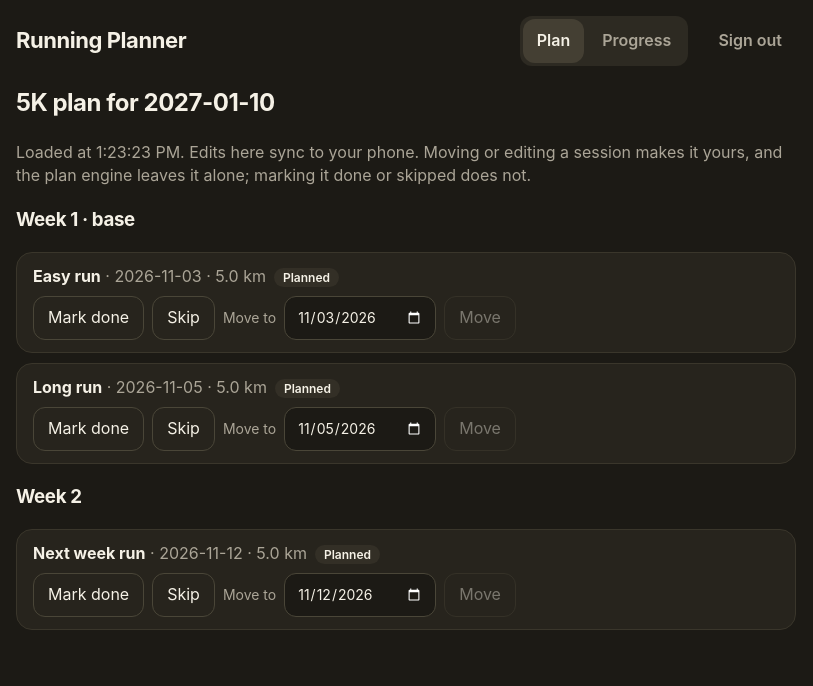
Test: the plan › explains a date outside the plan
In the date field labelled "Move to" below "Easy run": (360, 318) [284,296,436,340], type "2027-06-01"
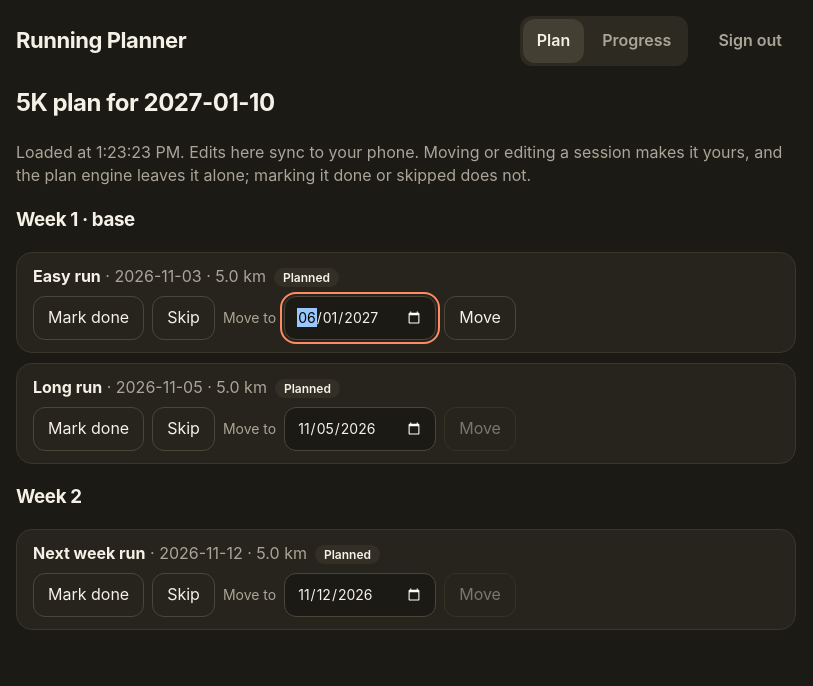
Click the button with aria-label "move:": (480, 318) [444,296,516,340]
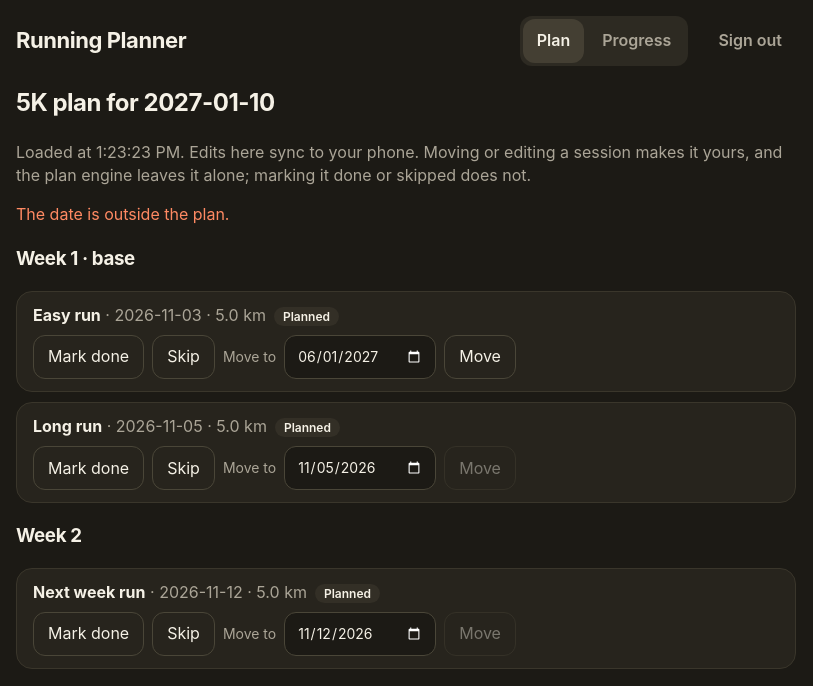
Now the message shows "outside the plan", box [16,204,230,224]
